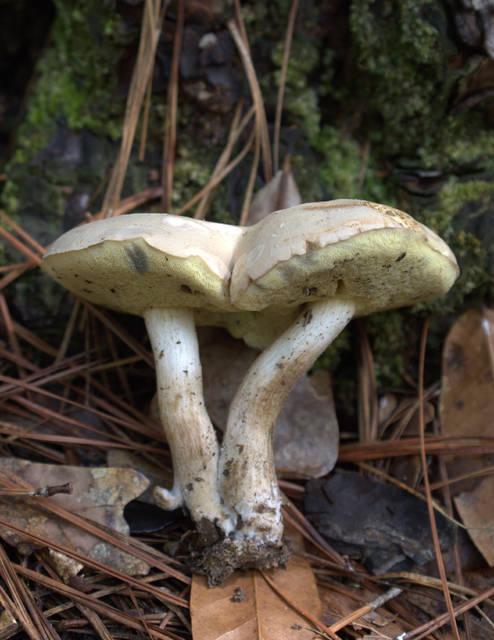edible_mushroom: (39, 196, 460, 578)
